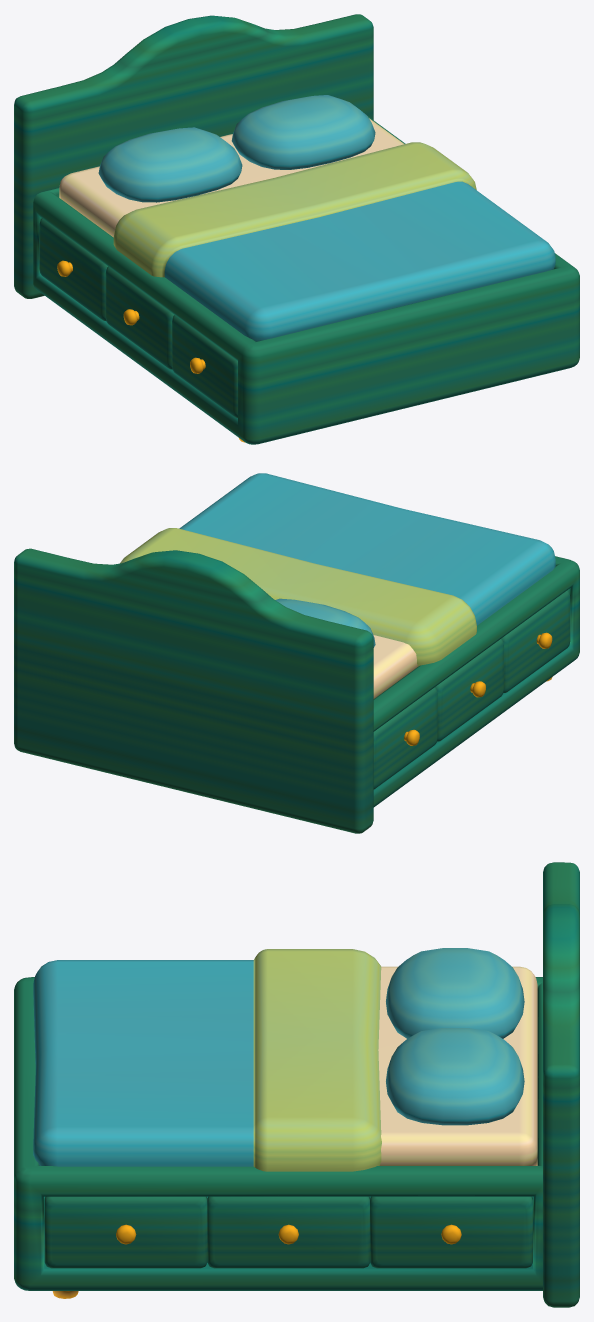
The model's file is bed-02.glb.
3 renders of one model, top to bottom at view 1: azimuth 30°, elevation 25°; view 2: azimuth 150°, elevation 25°; view 3: azimuth 270°, elevation 25°, orthographic. The views are drawn at different scales.
Visible parts, largest first — view 1: Bed_02; view 2: Bed_02; view 3: Bed_02.
Part boxes in pixels (x1,y1,x2,y2): Bed_02: [14, 14, 579, 444]; Bed_02: [14, 473, 579, 833]; Bed_02: [14, 862, 579, 1307].
Size of the model in its own units: 1.92 by 1.2 by 2.14.
1 material, 1 textured.
